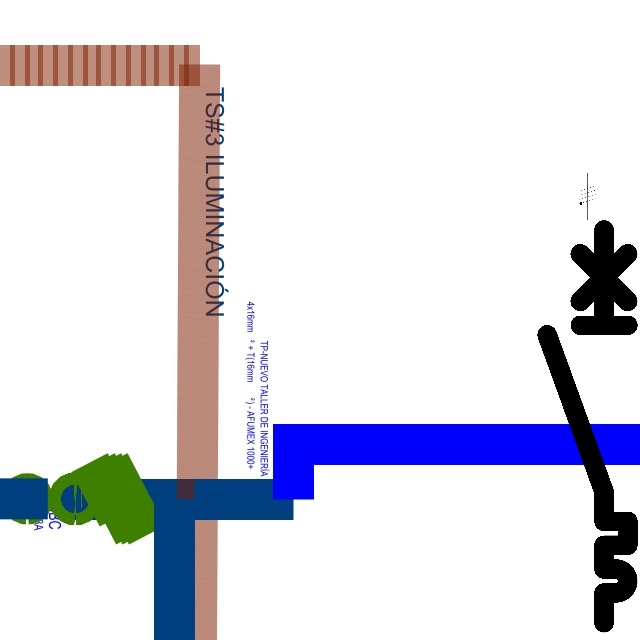interruptor_termomagnetico: (537, 219, 638, 632)
